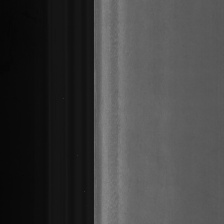silk_spot: (108, 95, 120, 210)
